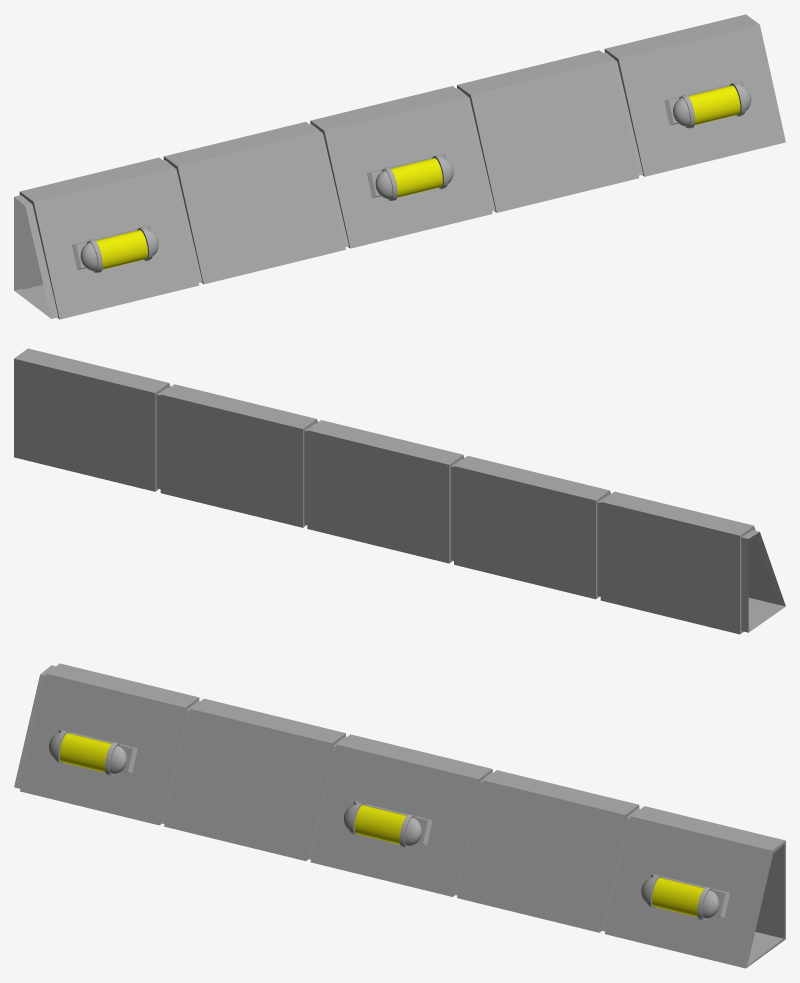
Rendered from SM_Bordure.fbx.
The picture shows the model from 3 angles, top to bottom: view 1: azimuth 30°, elevation 25°; view 2: azimuth 150°, elevation 25°; view 3: azimuth 330°, elevation 25°; orthographic projection.
Parts seen in each view (by area): view 1: SM_Bordure; view 2: SM_Bordure; view 3: SM_Bordure.
Part boxes in pixels (<box>): SM_Bordure: <box>14,14,785,319</box>; SM_Bordure: <box>14,348,785,634</box>; SM_Bordure: <box>14,663,785,968</box>.
Bounding box in the file's own units: 499 × 64.19 × 49.82.
